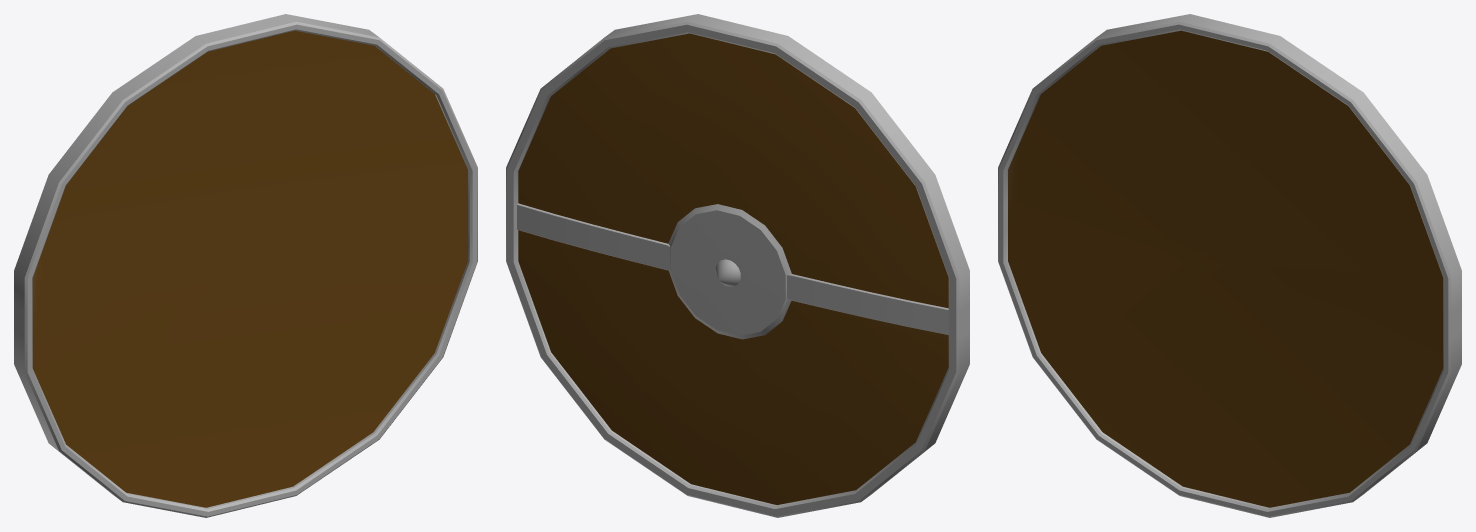
File: GuardShield.fbx
3 renders of one model, left to right at view 1: azimuth 30°, elevation 25°; view 2: azimuth 150°, elevation 25°; view 3: azimuth 330°, elevation 25°, orthographic.
Parts seen in each view (by area): view 1: Shield; view 2: Shield; view 3: Shield.
Boxes of the visible parts, x1,y1,x2,y2 form: Shield: (14,14,477,517); Shield: (506,14,969,517); Shield: (998,14,1461,517).
Bounding box in the file's own units: 1.28 × 0.1241 × 1.28.
